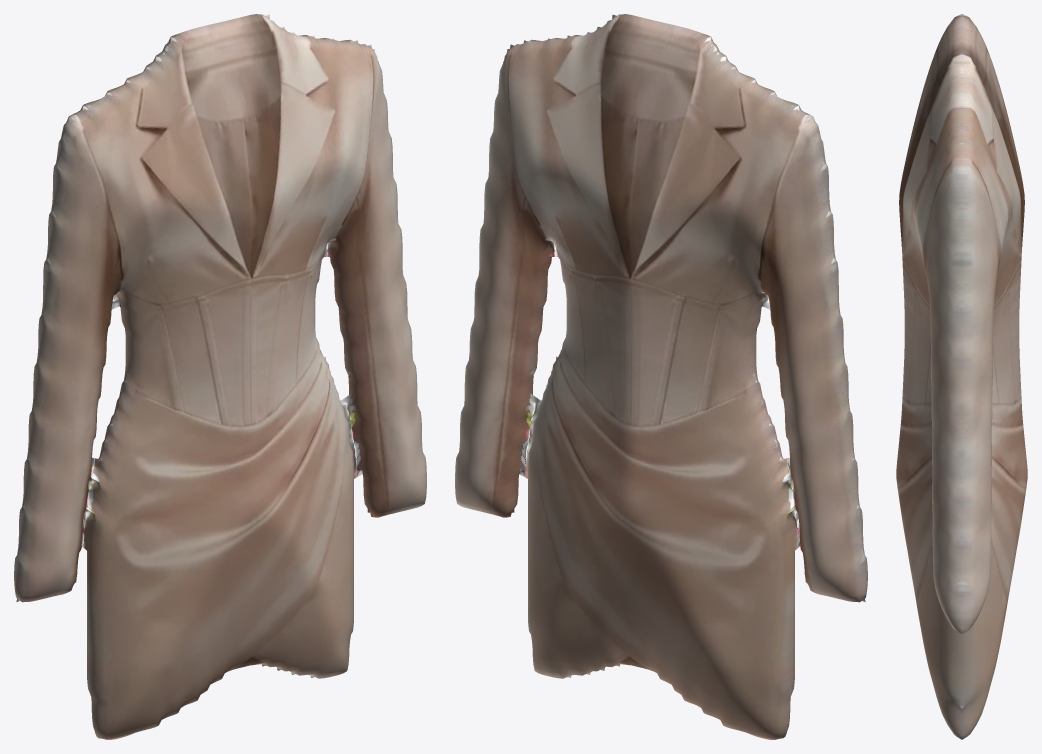
File: prod-ae-champagne-blazer-dress.glb
The picture shows the model from 3 angles, left to right: view 1: azimuth 30°, elevation 25°; view 2: azimuth 150°, elevation 25°; view 3: azimuth 270°, elevation 25°; orthographic projection. The views are drawn at different scales.
Parts seen in each view (by area): view 1: prod-ae-champagne-blazer-dress_standalone; view 2: prod-ae-champagne-blazer-dress_standalone; view 3: prod-ae-champagne-blazer-dress_standalone.
Part boxes in pixels (x1=…): prod-ae-champagne-blazer-dress_standalone: x1=14, y1=14, x2=426, y2=739; prod-ae-champagne-blazer-dress_standalone: x1=455, y1=14, x2=867, y2=739; prod-ae-champagne-blazer-dress_standalone: x1=896, y1=14, x2=1027, y2=739.
Size of the model in its own units: 0.4202 by 0.6784 by 0.1222.
Materials: 1 (1 with a texture image).
